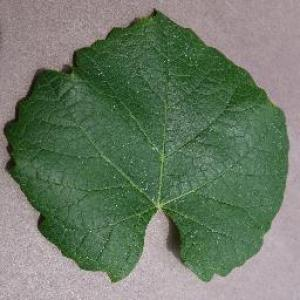Folha: (3, 7, 290, 284)
